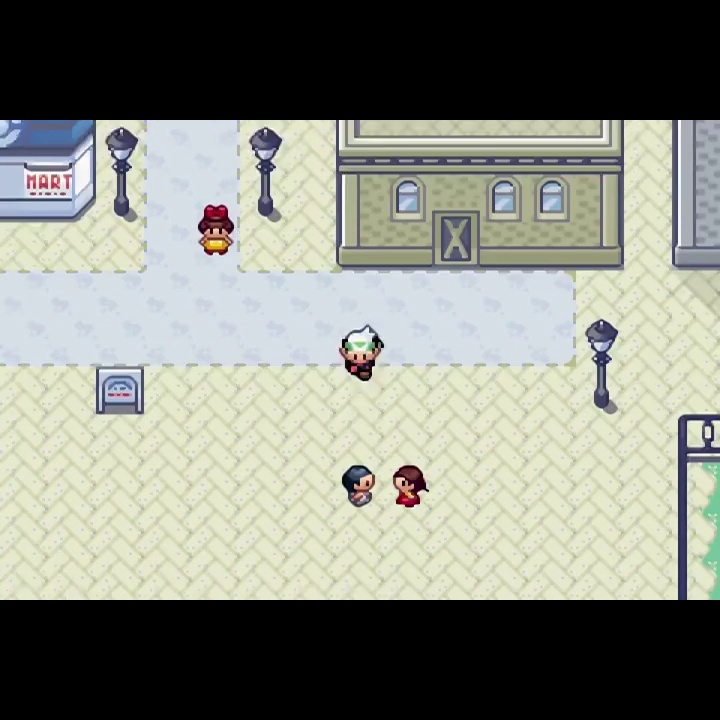house: (333, 120, 627, 272), (669, 120, 720, 272)
npc: (339, 321, 384, 384), (195, 201, 236, 258), (390, 462, 432, 511), (339, 464, 377, 510)
pokemart: (1, 120, 99, 225)
